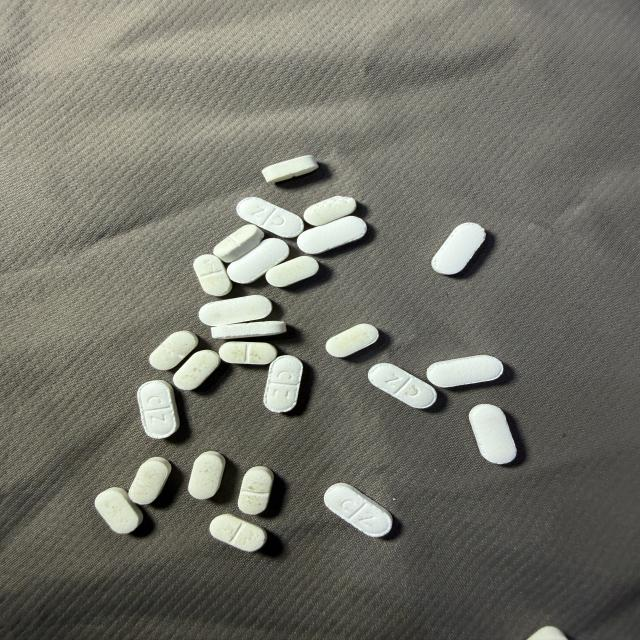pill: (324, 483, 392, 537), (369, 363, 436, 408), (469, 404, 516, 464), (432, 223, 485, 275), (228, 239, 289, 283), (237, 197, 303, 237), (297, 216, 366, 254), (137, 380, 179, 438), (427, 355, 503, 387), (199, 295, 272, 326), (264, 356, 302, 412), (95, 488, 142, 533), (210, 514, 266, 551), (129, 457, 171, 504), (149, 331, 198, 370), (213, 224, 263, 262), (173, 350, 220, 390), (188, 451, 225, 499), (326, 324, 378, 357), (238, 467, 273, 514), (266, 256, 318, 287), (304, 196, 356, 226), (194, 255, 232, 296), (262, 156, 318, 183), (212, 321, 286, 339), (219, 342, 277, 364), (528, 626, 567, 639)
